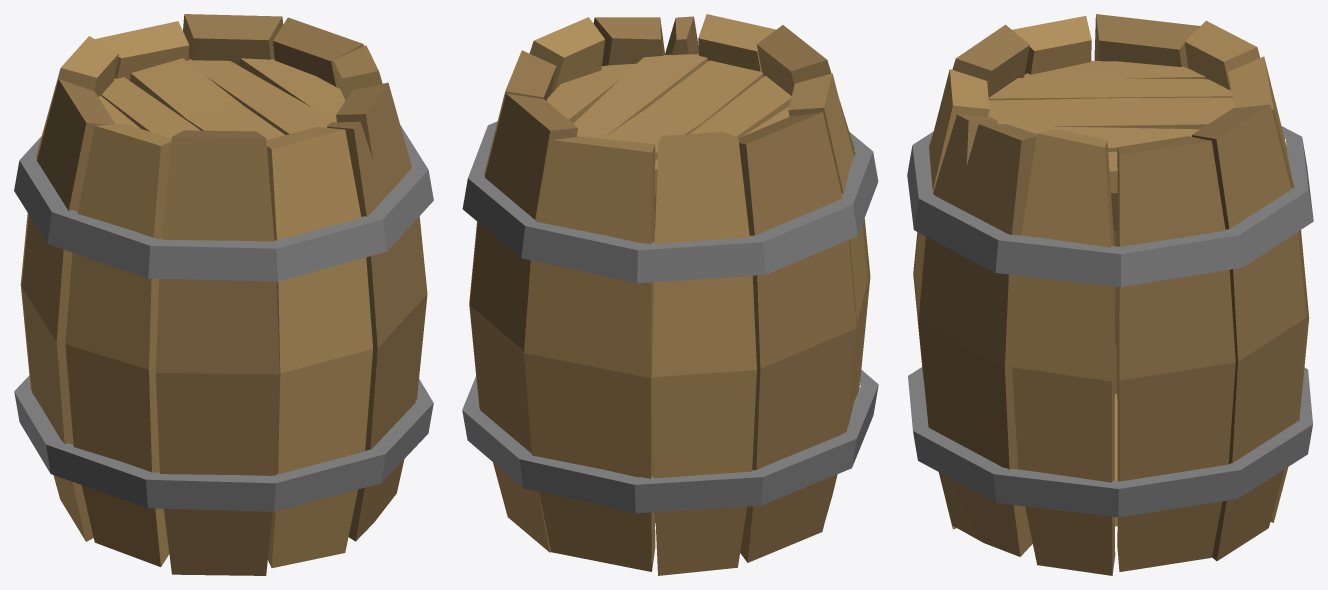
Rendered from Wooden_Barrel.gltf.
3 views of the same model, side by side, from view 1: azimuth 30°, elevation 25°; view 2: azimuth 150°, elevation 25°; view 3: azimuth 270°, elevation 25° (orthographic).
Visible parts, largest first — view 1: Wooden_Barrel2; view 2: Wooden_Barrel2; view 3: Wooden_Barrel2.
Boxes of the visible parts, bbox=[...] form: Wooden_Barrel2: bbox=[14, 14, 433, 575]; Wooden_Barrel2: bbox=[462, 14, 878, 575]; Wooden_Barrel2: bbox=[907, 14, 1313, 575].
Bounding box in the file's own units: 0.1826 × 0.2099 × 0.1764.
1 material, 1 textured.
